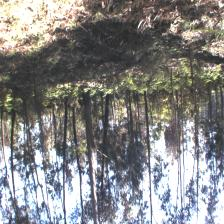trunktrack_idkeyframe: (82, 91, 96, 178), (10, 111, 16, 161), (144, 92, 149, 148), (103, 94, 110, 134), (62, 98, 68, 144), (71, 106, 77, 142)
